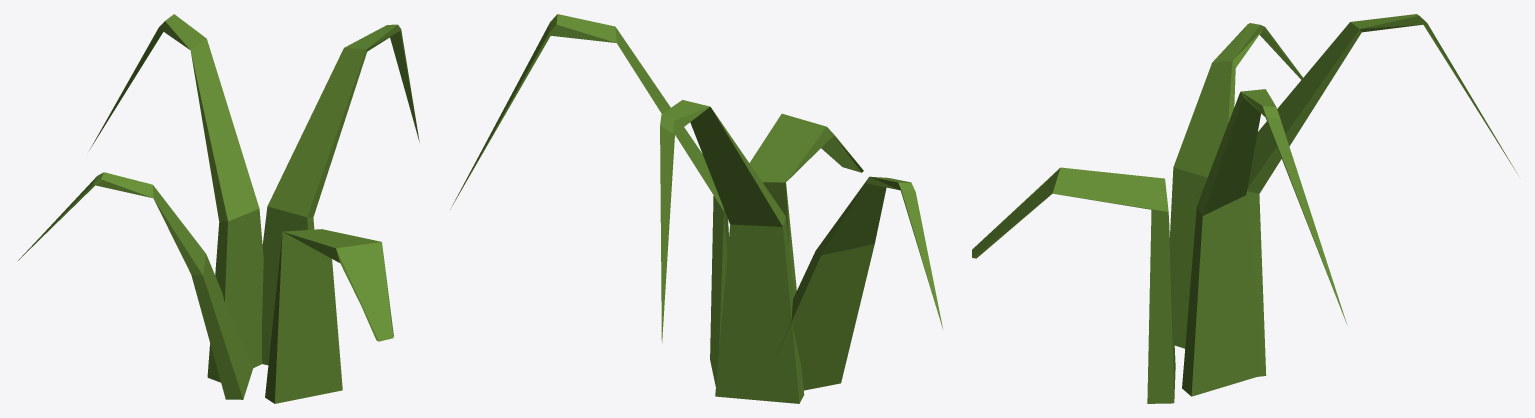
Rendered from grass1.fbx.
3 views of the same model, side by side, from view 1: azimuth 30°, elevation 25°; view 2: azimuth 150°, elevation 25°; view 3: azimuth 270°, elevation 25° (orthographic). The views are drawn at different scales.
Parts seen in each view (by area): view 1: Plane.002; view 2: Plane.002; view 3: Plane.002.
Boxes of the visible parts, x1,y1,x2,y2 form: Plane.002: (18, 14, 419, 403); Plane.002: (450, 14, 943, 403); Plane.002: (972, 14, 1517, 403).
Bounding box in the file's own units: 143 × 99.21 × 138.
